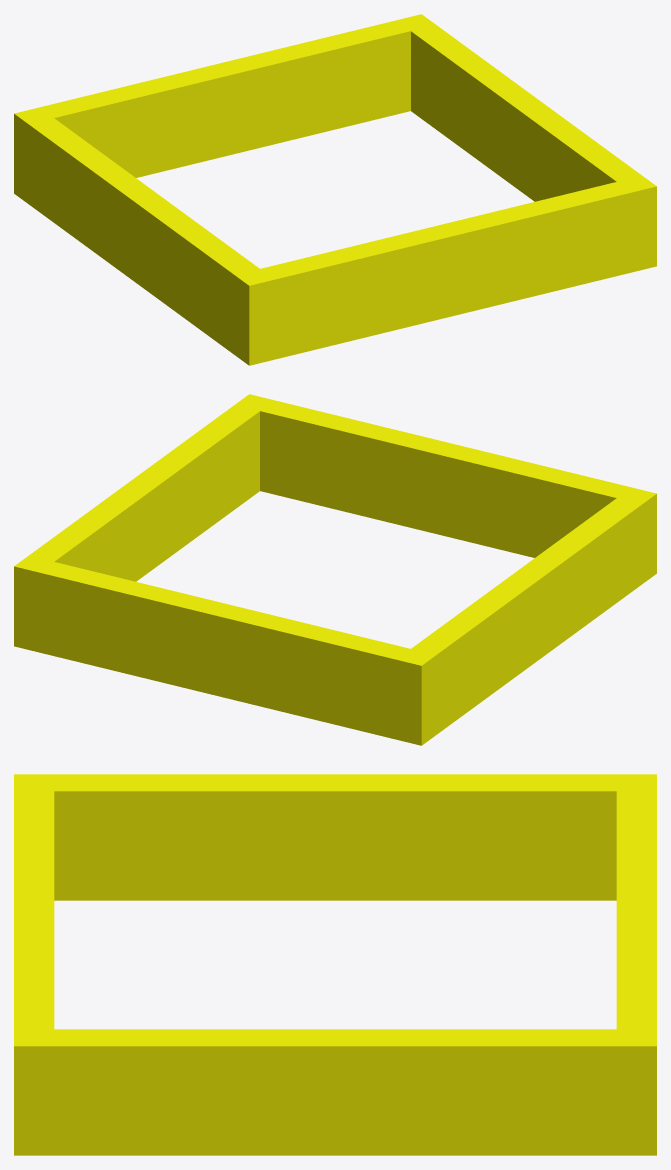
File: PyramideBase--13-3.dae
3 views of the same model, one above another, from view 1: azimuth 30°, elevation 25°; view 2: azimuth 150°, elevation 25°; view 3: azimuth 270°, elevation 25° (orthographic). The views are drawn at different scales.
Parts seen in each view (by area): view 1: SketchUp (×2); view 2: SketchUp (×2); view 3: SketchUp (×2).
Part boxes in pixels (box(x1,y1,x2,y2)): SketchUp (×2): box(14, 14, 656, 365); SketchUp (×2): box(14, 394, 656, 745); SketchUp (×2): box(14, 774, 656, 1155).
Size of the model in its own units: 6.3 by 6.3 by 1.18.
